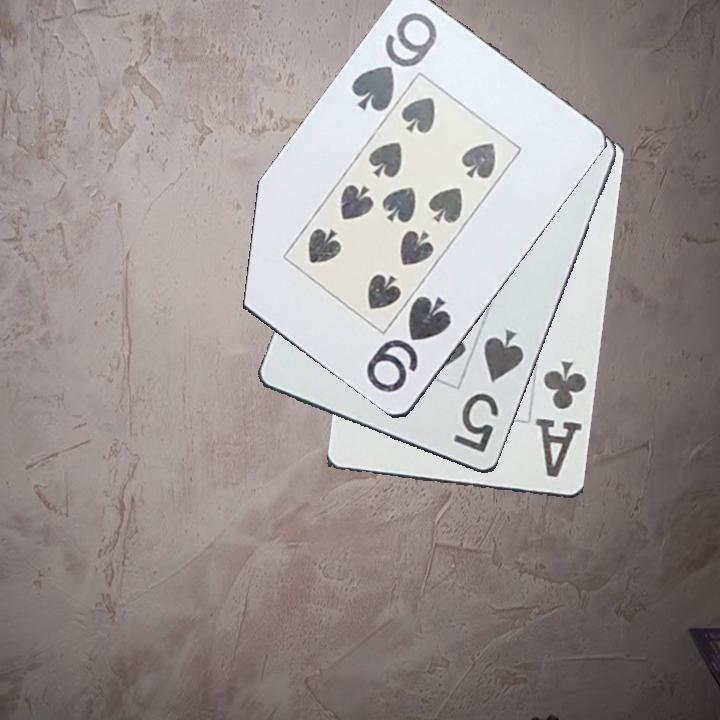5s: (449, 326, 527, 456)
9s: (347, 9, 441, 117), (362, 292, 455, 397)
Ac: (531, 357, 592, 481)
